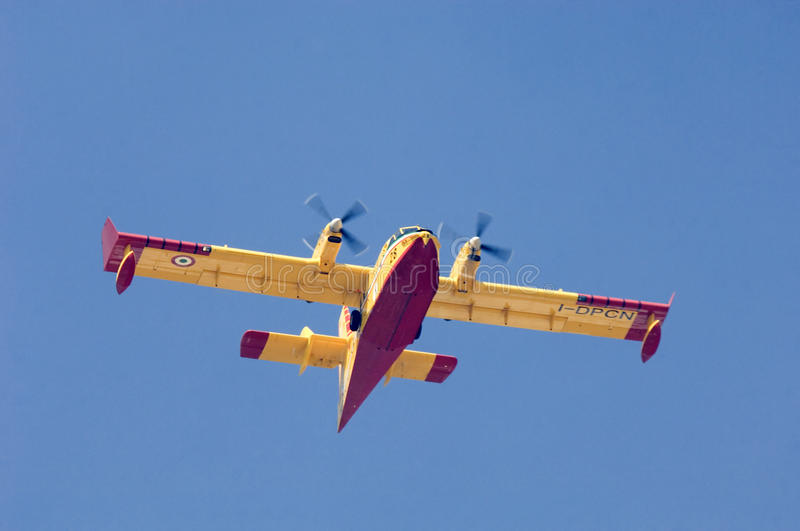Aeronef_de_service: (87, 183, 679, 442)
